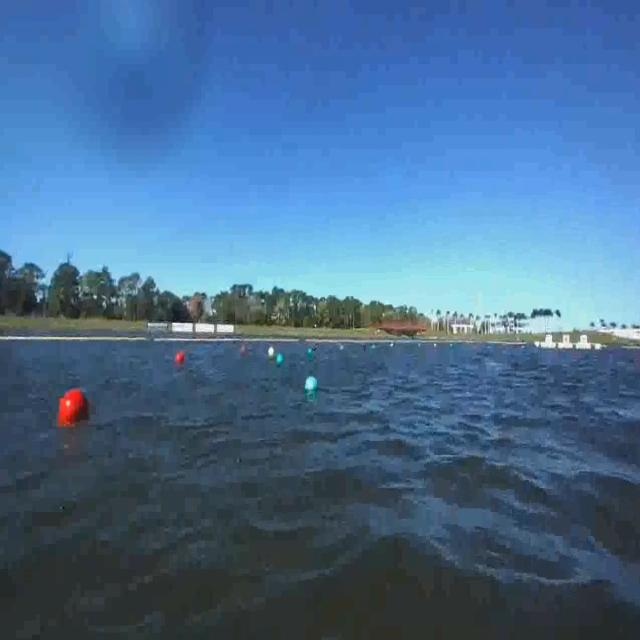green-buoy: (304, 374, 316, 392), (276, 353, 284, 367)
red-buoy: (58, 387, 96, 429), (176, 351, 184, 364)
